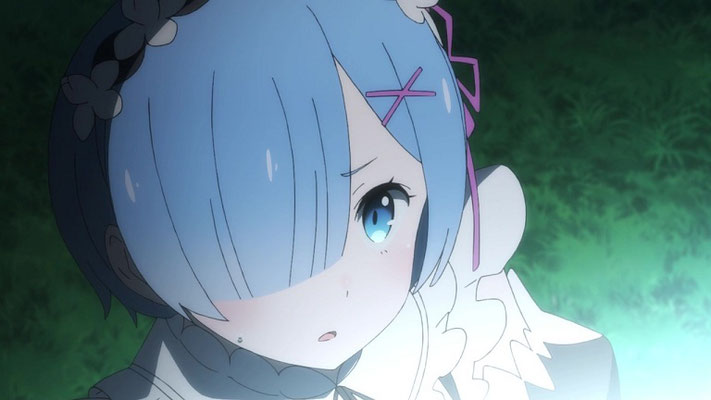rem: (57, 1, 614, 400)
